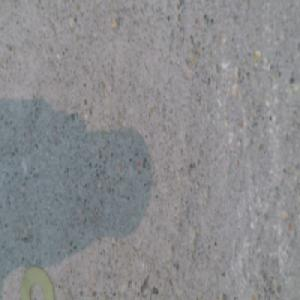Washer: (19, 265, 56, 299)
